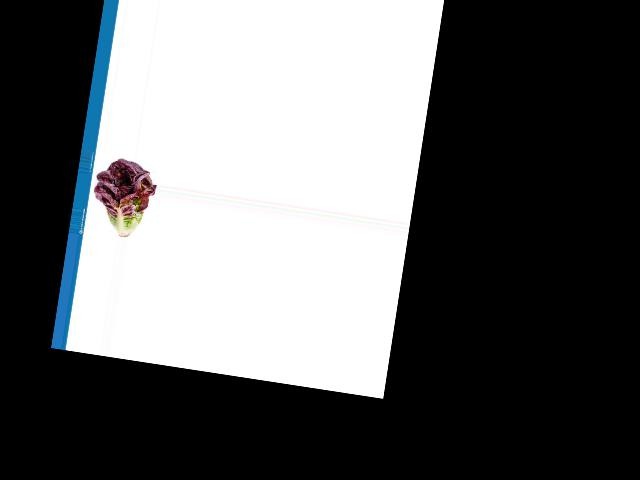lettuce: (87, 156, 157, 241)
